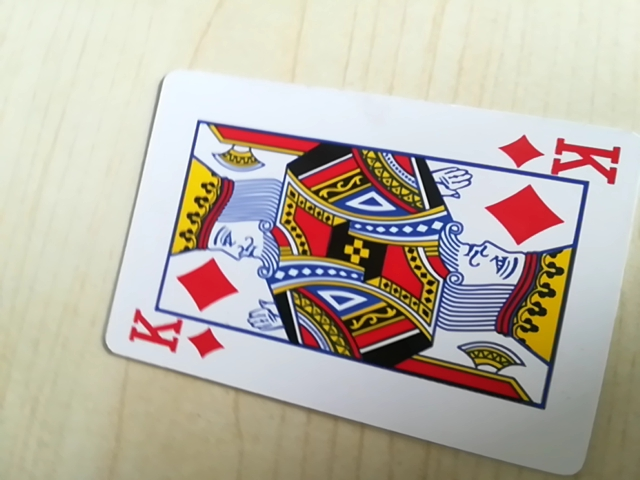fk k: (501, 130, 620, 180), (123, 312, 228, 360)
